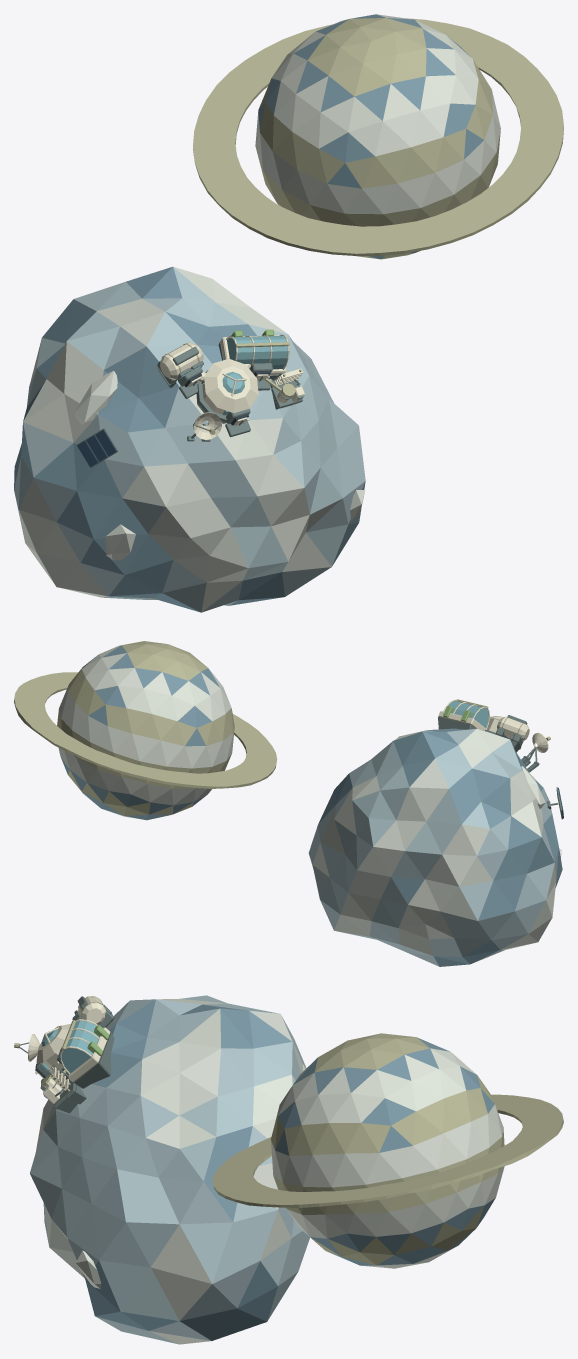
The model's file is outer.glb.
The picture shows the model from 3 angles, top to bottom: view 1: azimuth 30°, elevation 25°; view 2: azimuth 150°, elevation 25°; view 3: azimuth 270°, elevation 25°; orthographic projection. The views are drawn at different scales.
Visible parts, largest first — view 1: S3_outer • modeled surfaces; view 2: S3_outer • modeled surfaces; view 3: S3_outer • modeled surfaces.
Part boxes in pixels (x1=…): S3_outer • modeled surfaces: x1=14, y1=14, x2=563, y2=612; S3_outer • modeled surfaces: x1=14, y1=641, x2=563, y2=966; S3_outer • modeled surfaces: x1=14, y1=995, x2=563, y2=1344.
Bounding box in the file's own units: 2.48 × 1.63 × 2.
